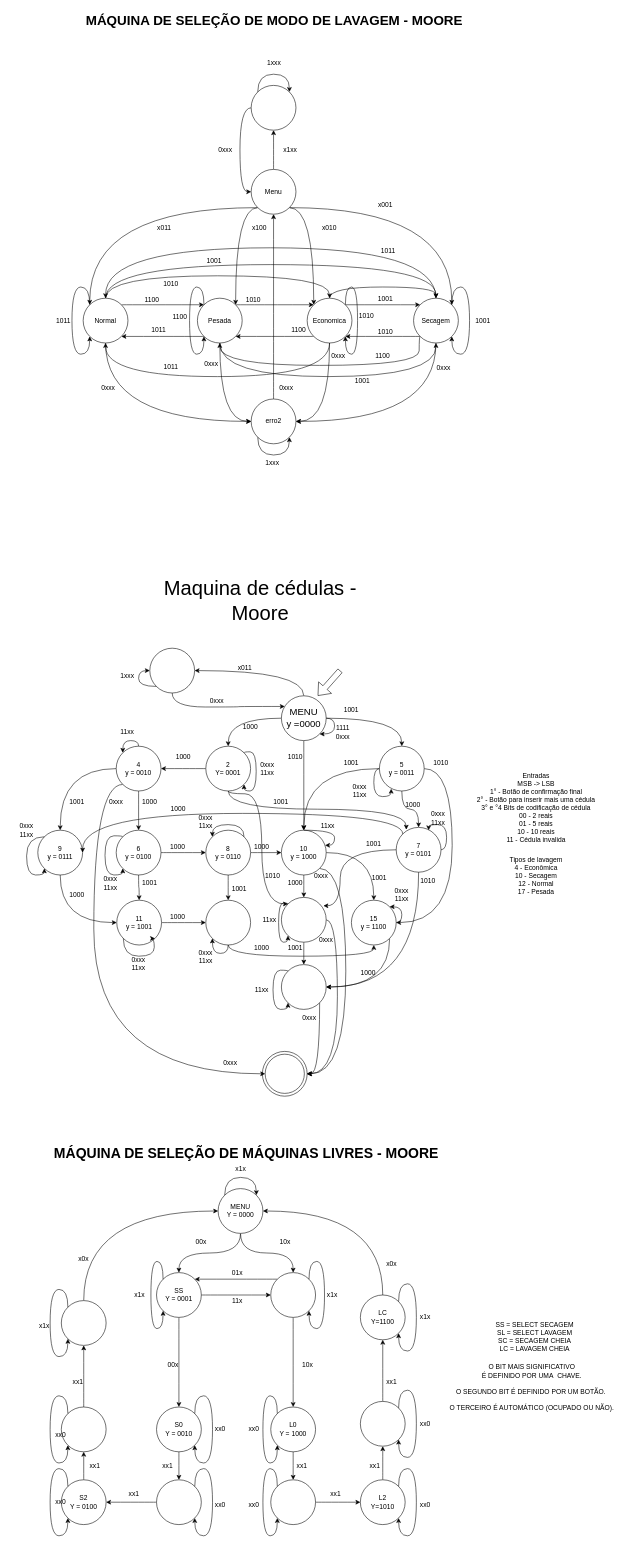
Image size: 628x1546. Some labels were removed from this diagram. The box of each missing label's shape, as (x1, y1, x2, y2) in pixels:
12 y = 1010: (281, 897, 326, 942)
13 y = 1011: (205, 900, 251, 945)
17 y = 1101: (281, 964, 326, 1009)
Erro1: (251, 85, 296, 130)
ERRO1 y = 1111: (149, 648, 195, 693)
Finalizado Y = 1110: (265, 1054, 304, 1093)
L1 Y=1001: (270, 1479, 316, 1525)
L3 Y=1011: (360, 1401, 405, 1446)
S1 Y = 0011: (156, 1479, 201, 1525)
S3 Y = 0101: (61, 1406, 106, 1452)
SC Y=0110: (61, 1300, 106, 1345)
SL Y = 0111: (270, 1272, 316, 1317)
